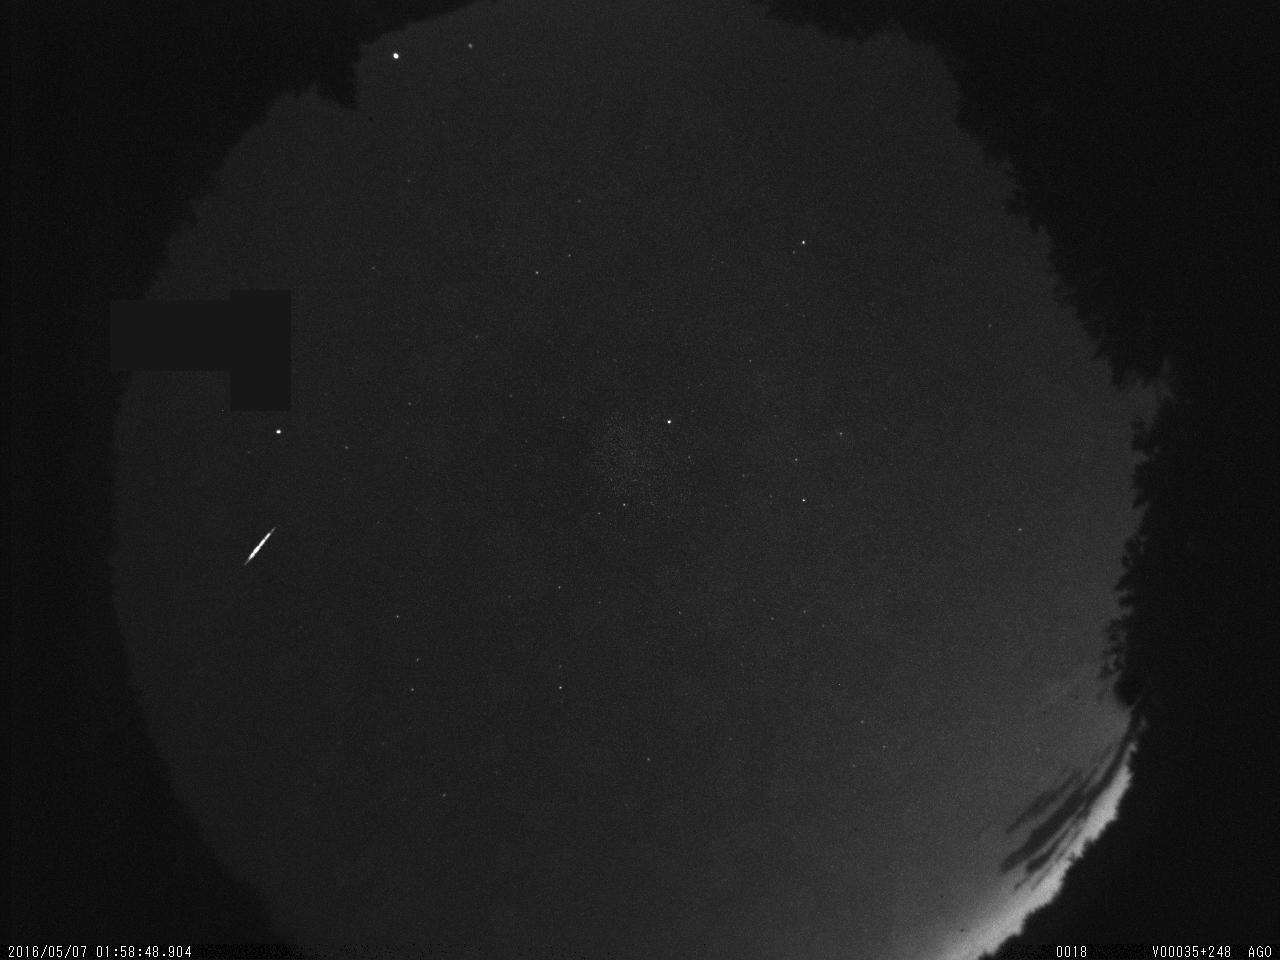meteor: (218, 520, 312, 581)
